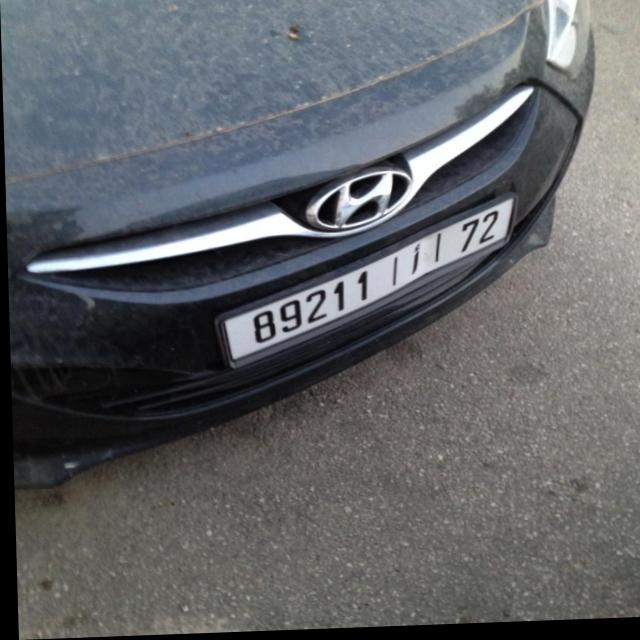License-Plate: (220, 203, 512, 368)
